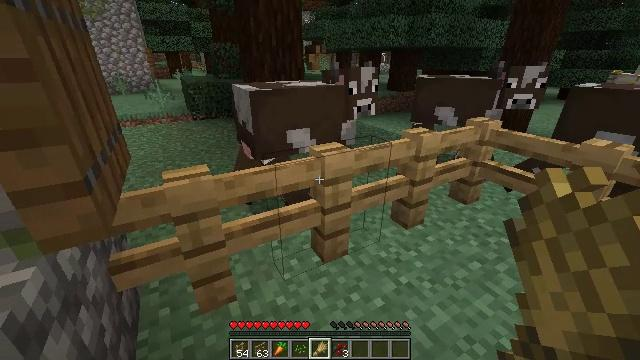cow: (230, 66, 379, 197), (501, 84, 640, 192), (415, 64, 548, 170)
